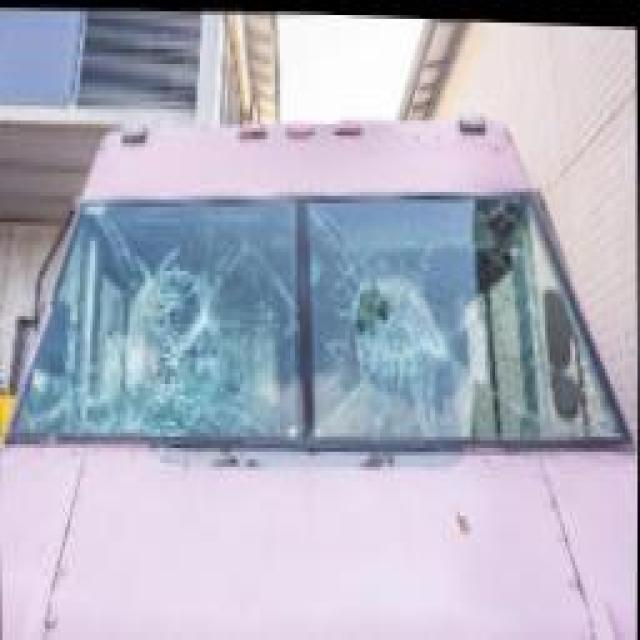Windshield: (30, 184, 608, 449)
